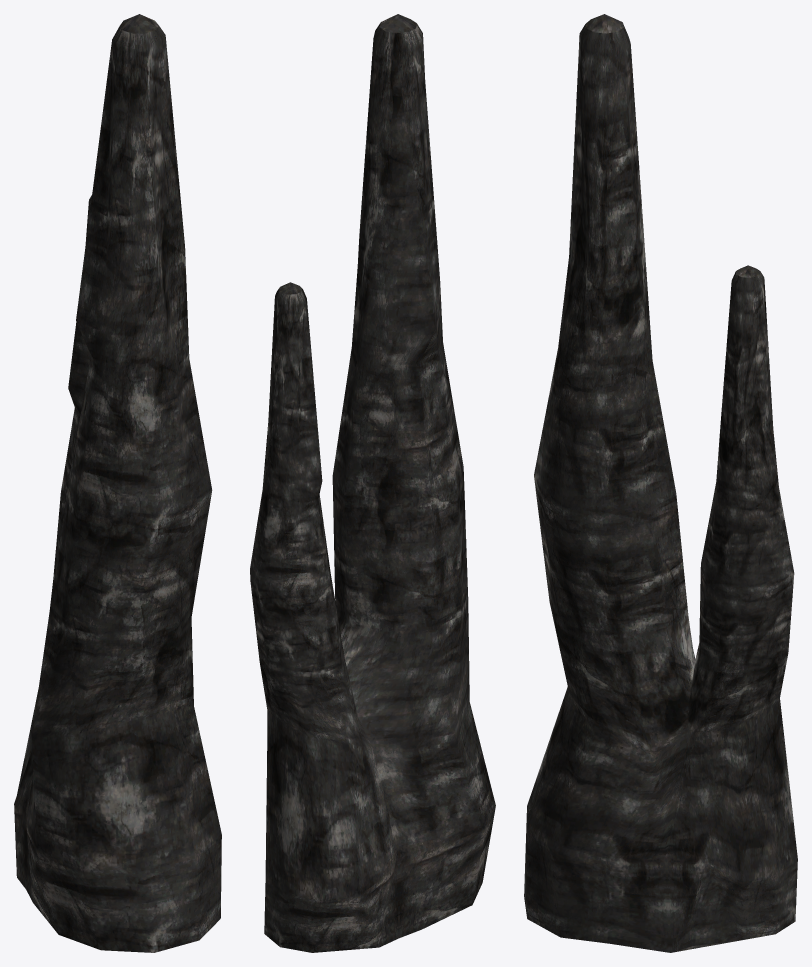
The model's file is Stalactite03.DAE.
3 views of the same model, side by side, from view 1: azimuth 30°, elevation 25°; view 2: azimuth 150°, elevation 25°; view 3: azimuth 270°, elevation 25° (orthographic). The views are drawn at different scales.
Visible parts, largest first — view 1: Cylinder001; view 2: Cylinder001; view 3: Cylinder001.
Part boxes in pixels (bbox=[...]): Cylinder001: bbox=[14, 14, 221, 952]; Cylinder001: bbox=[250, 14, 495, 952]; Cylinder001: bbox=[524, 14, 797, 952].
Bounding box in the file's own units: 1.79 × 2.28 × 8.24.
